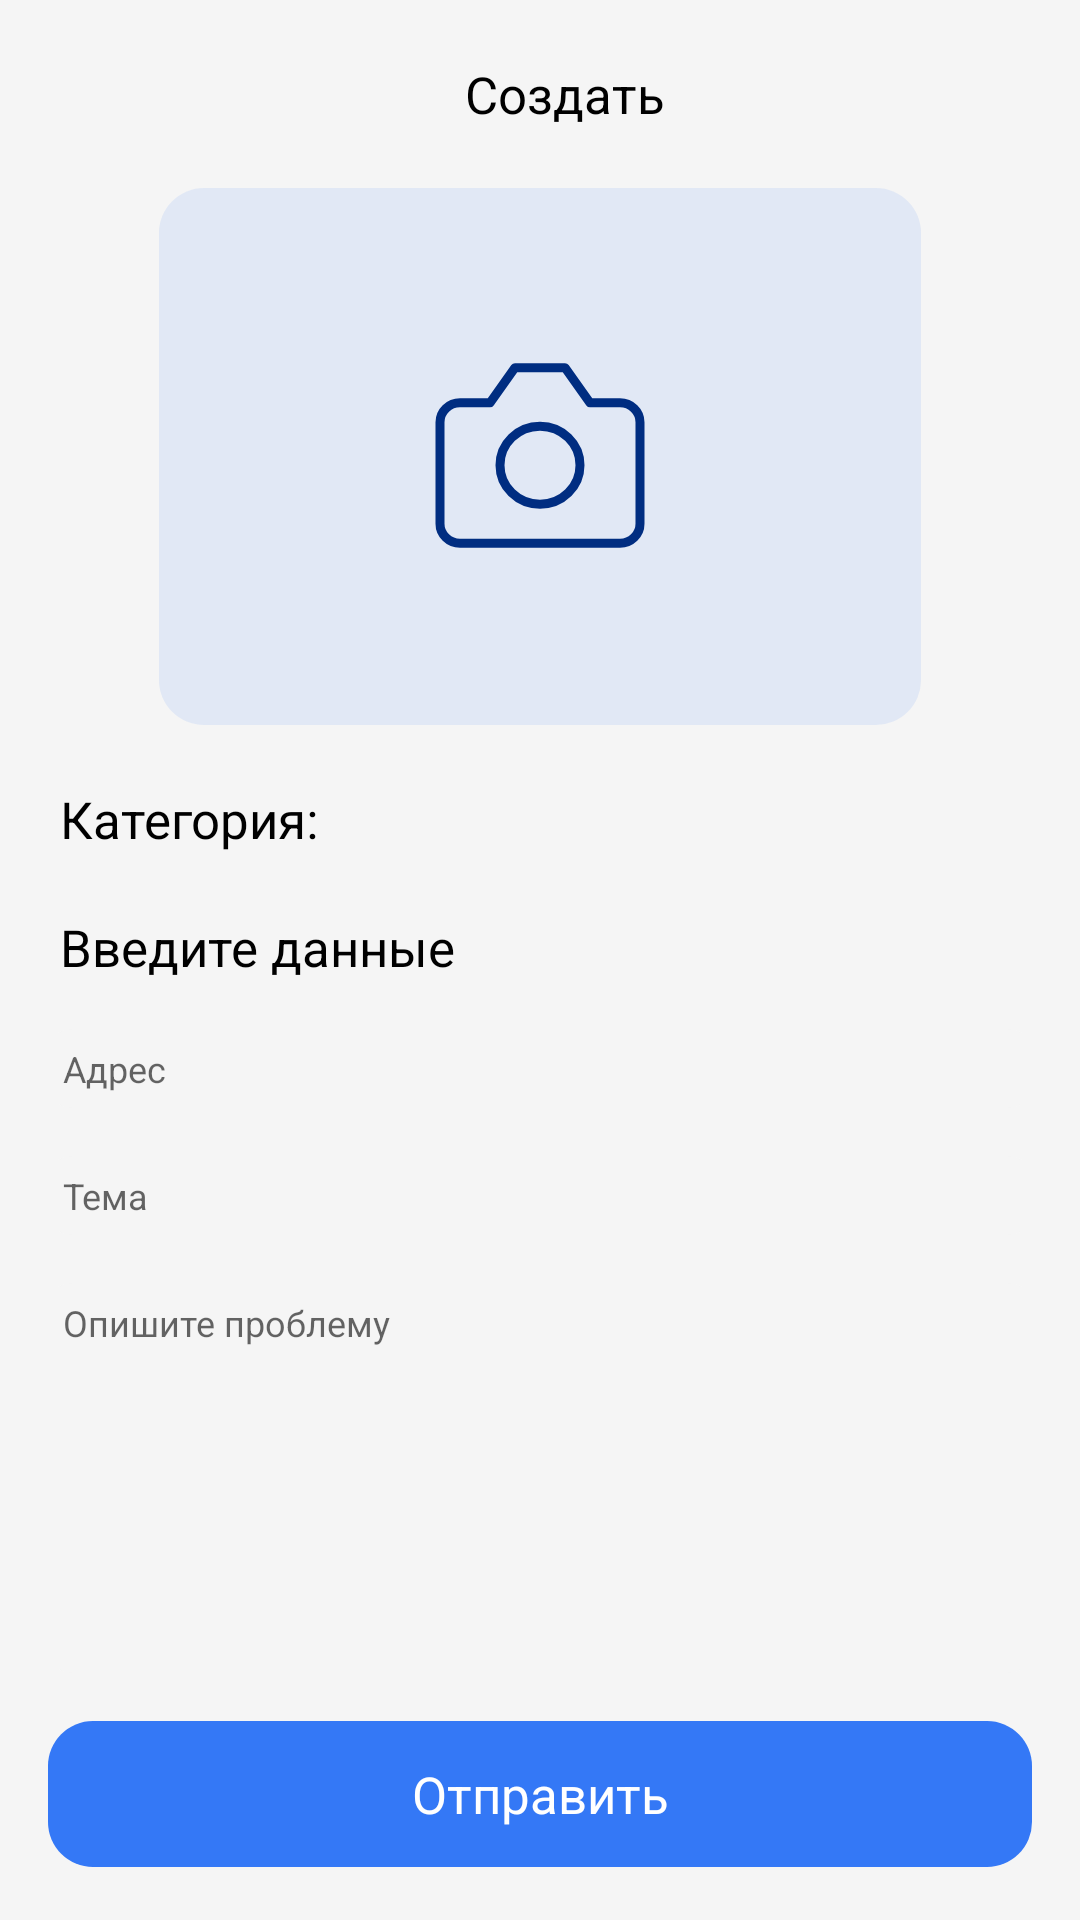

Named icons in this screenshot (1080px x 1920px) and their centers, (x,y):
photo: (540,455)
